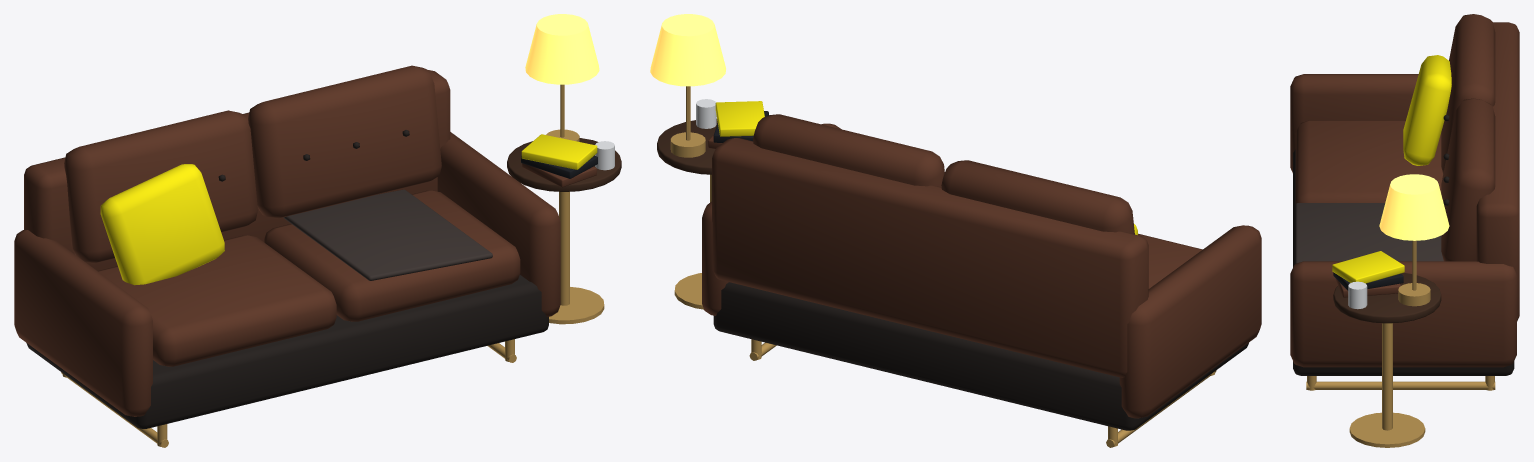
Rendered from sofa.glb.
3 views of the same model, side by side, from view 1: azimuth 30°, elevation 25°; view 2: azimuth 150°, elevation 25°; view 3: azimuth 270°, elevation 25° (orthographic). The views are drawn at different scales.
Parts seen in each view (by area): view 1: Body; view 2: Body; view 3: Body.
Boxes of the visible parts, x1,y1,x2,y2 form: Body: [14, 14, 621, 447]; Body: [650, 14, 1261, 447]; Body: [1290, 14, 1519, 447].
Size of the model in its own units: 2.16 by 1.04 by 0.85.
